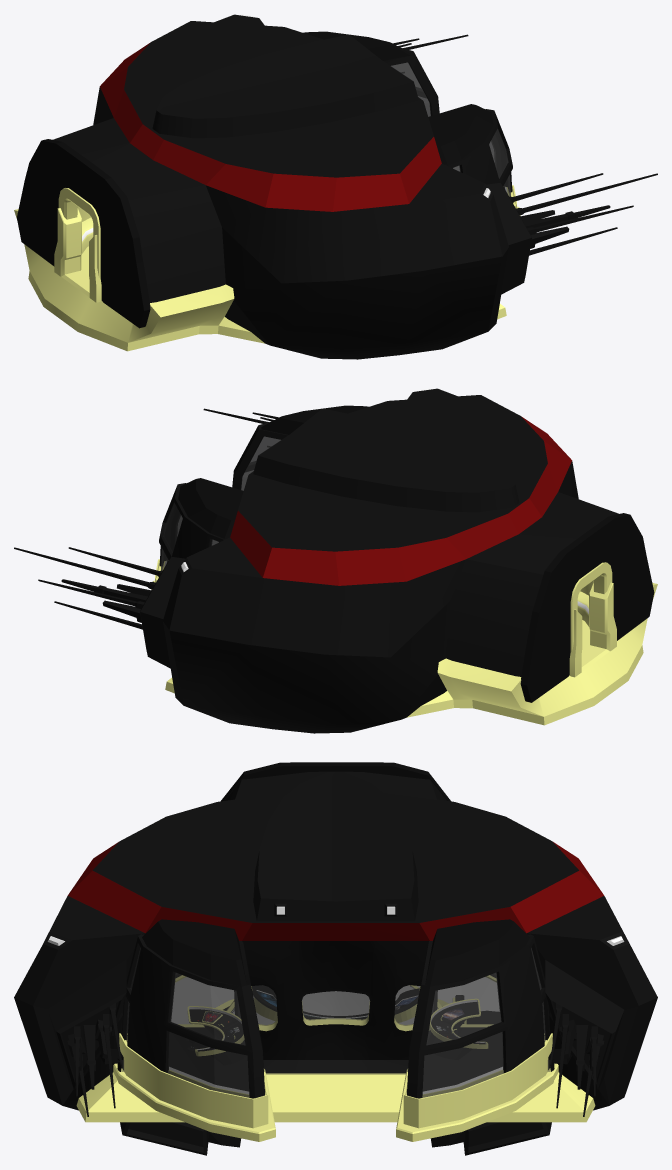
File: Sala03.FBX
3 views of the same model, one above another, from view 1: azimuth 30°, elevation 25°; view 2: azimuth 150°, elevation 25°; view 3: azimuth 270°, elevation 25° (orthographic). The views are drawn at different scales.
Parts seen in each view (by area): view 1: RoomRoof, Line011, Sala02, ctr_Sala03, Gate005; view 2: RoomRoof, Line011, Sala02, ctr_Sala03, Gate005; view 3: RoomRoof, ctr_Sala03, Sala02, Line011, Tube003, Tube001, Tube002.
Boxes of the visible parts, box(x1,y1,x2,y2) form: RoomRoof: box(53, 14, 657, 359); Line011: box(17, 139, 150, 328); Sala02: box(14, 185, 520, 351); ctr_Sala03: box(77, 31, 512, 254); Gate005: box(54, 188, 101, 302); RoomRoof: box(14, 388, 618, 733); Line011: box(520, 513, 654, 702); Sala02: box(151, 559, 657, 725); ctr_Sala03: box(159, 405, 593, 626); Gate005: box(569, 562, 616, 677); RoomRoof: box(14, 771, 657, 1155); ctr_Sala03: box(100, 919, 571, 1098); Sala02: box(76, 975, 595, 1141); Line011: box(221, 762, 450, 801); Tube003: box(188, 1006, 246, 1065); Tube001: box(427, 999, 487, 1059); Tube002: box(252, 985, 419, 1022).
Size of the model in its own units: 30.39 by 13.56 by 28.94.
